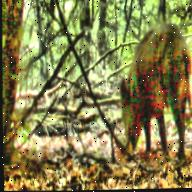boar: (100, 0, 192, 176)
